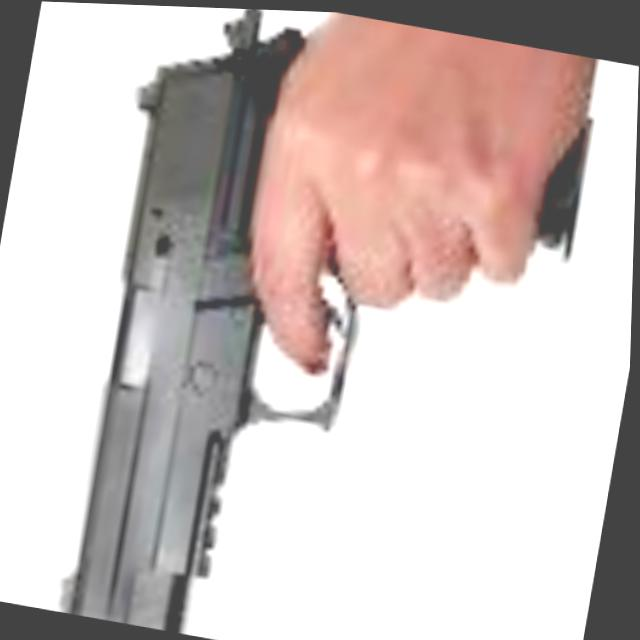pistol: (44, 2, 623, 640)
